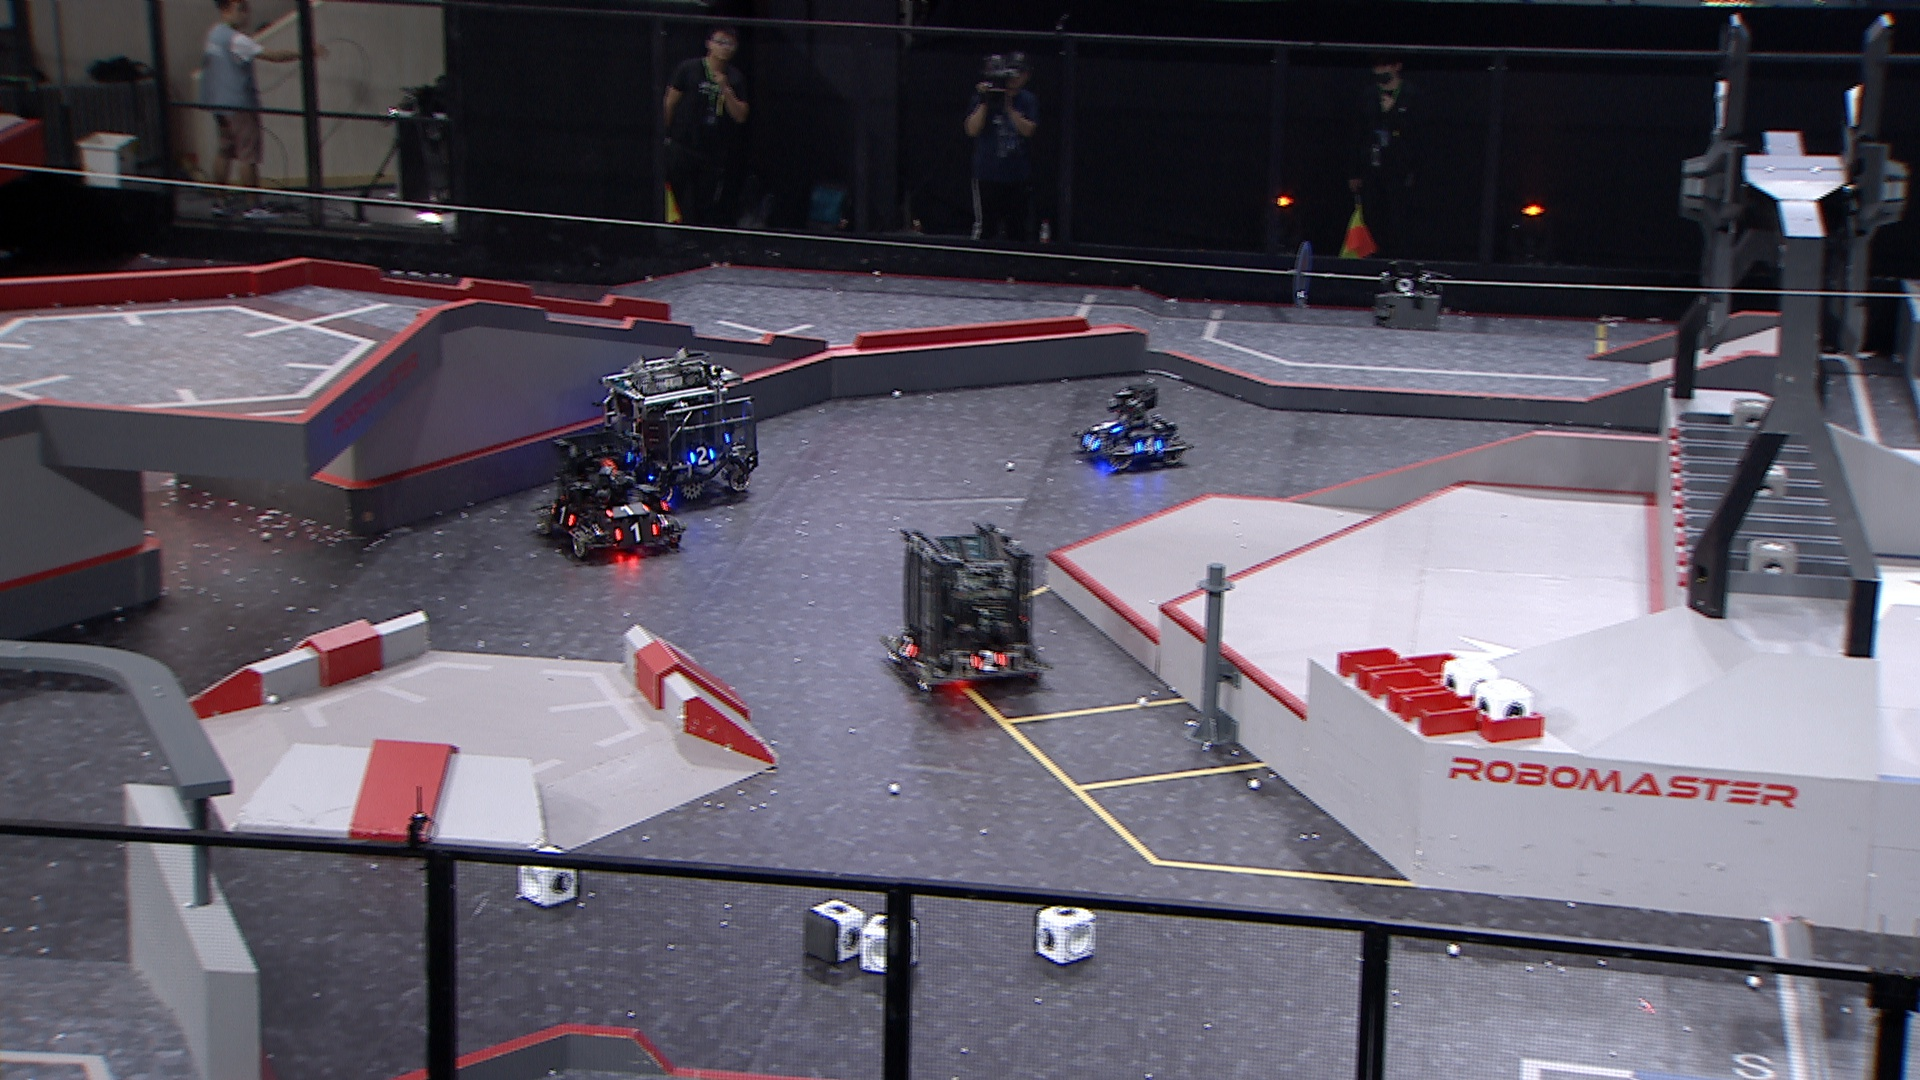armor: (612, 524, 661, 545), (969, 650, 1007, 675), (604, 502, 647, 518), (546, 505, 576, 527), (686, 447, 719, 467), (897, 636, 920, 661), (1079, 433, 1102, 455), (1134, 436, 1162, 455), (1098, 418, 1124, 436)
car: (884, 512, 1054, 699), (597, 348, 764, 505), (533, 429, 688, 562), (1069, 382, 1196, 473)
